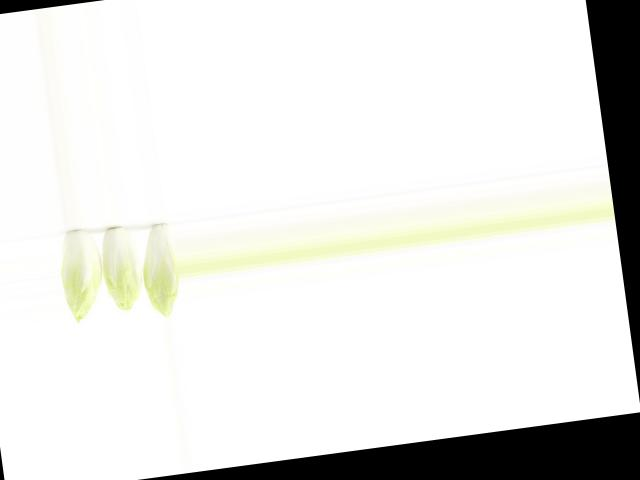lettuce: (54, 223, 107, 325)
